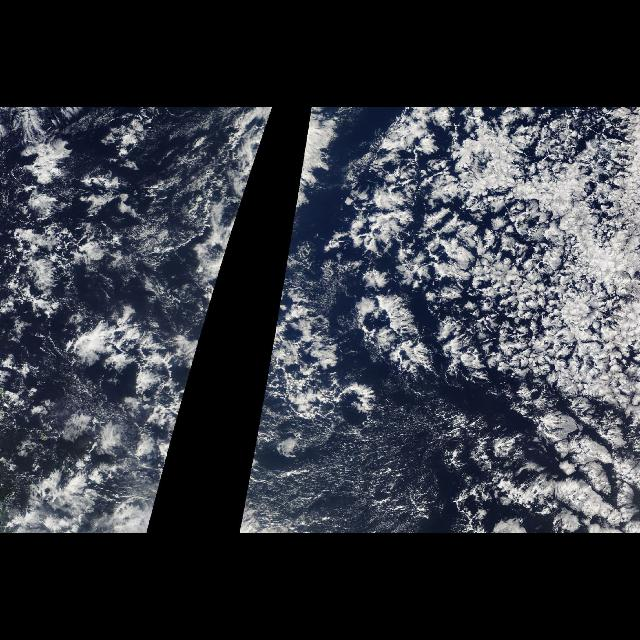Flower: (338, 111, 636, 491)
Gravel: (9, 146, 261, 430), (256, 146, 348, 430)
Sugar: (246, 394, 489, 530)
